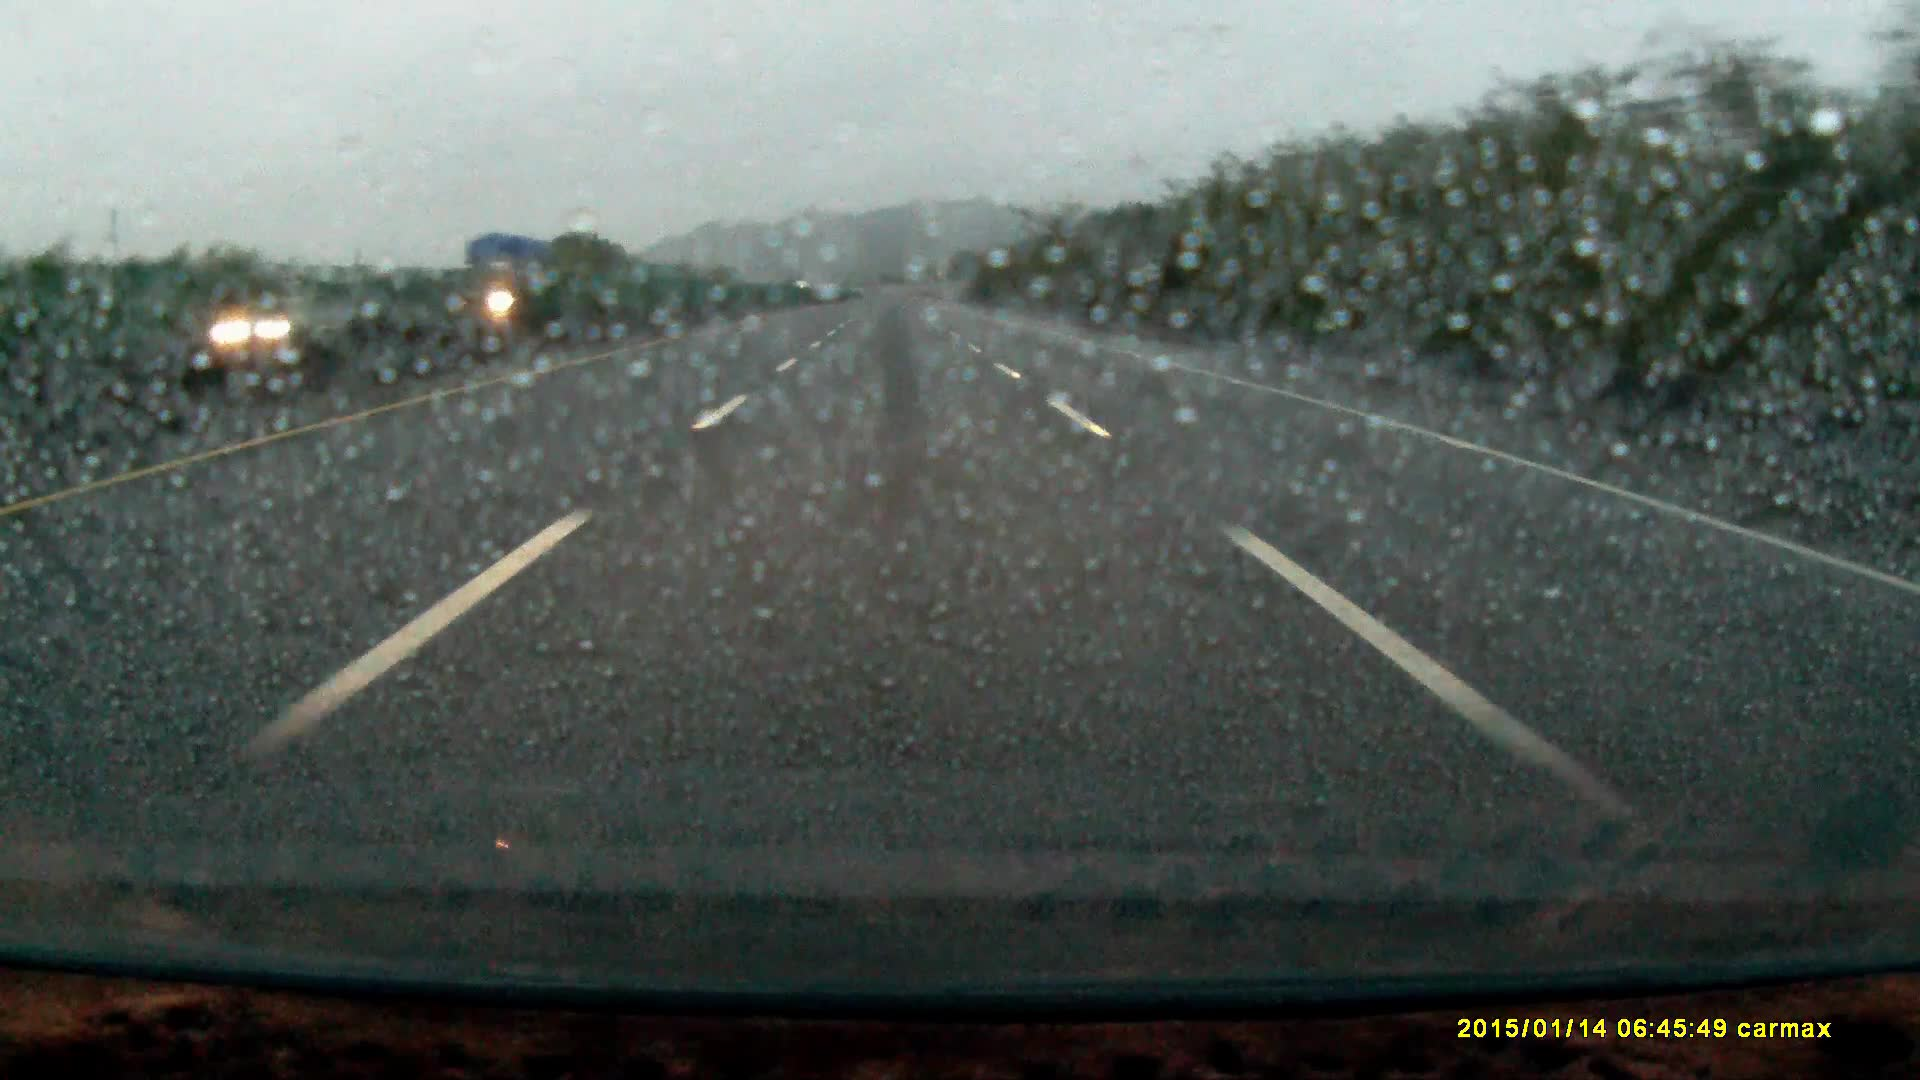vehicle: (455, 240, 570, 335), (218, 303, 340, 347)
